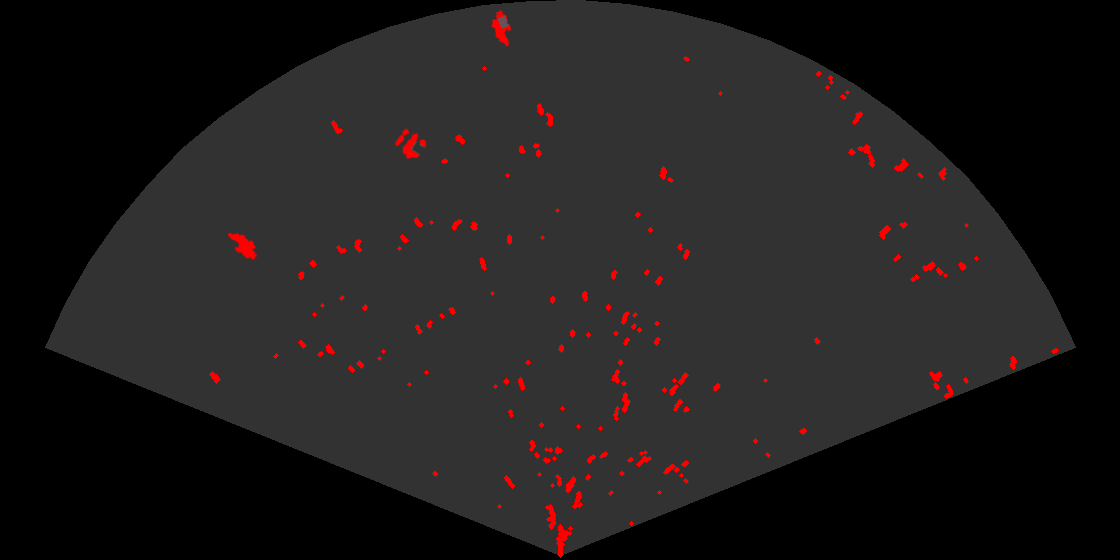AUV: (226, 231, 259, 261), (490, 8, 513, 49)
ball: (393, 127, 428, 161)
